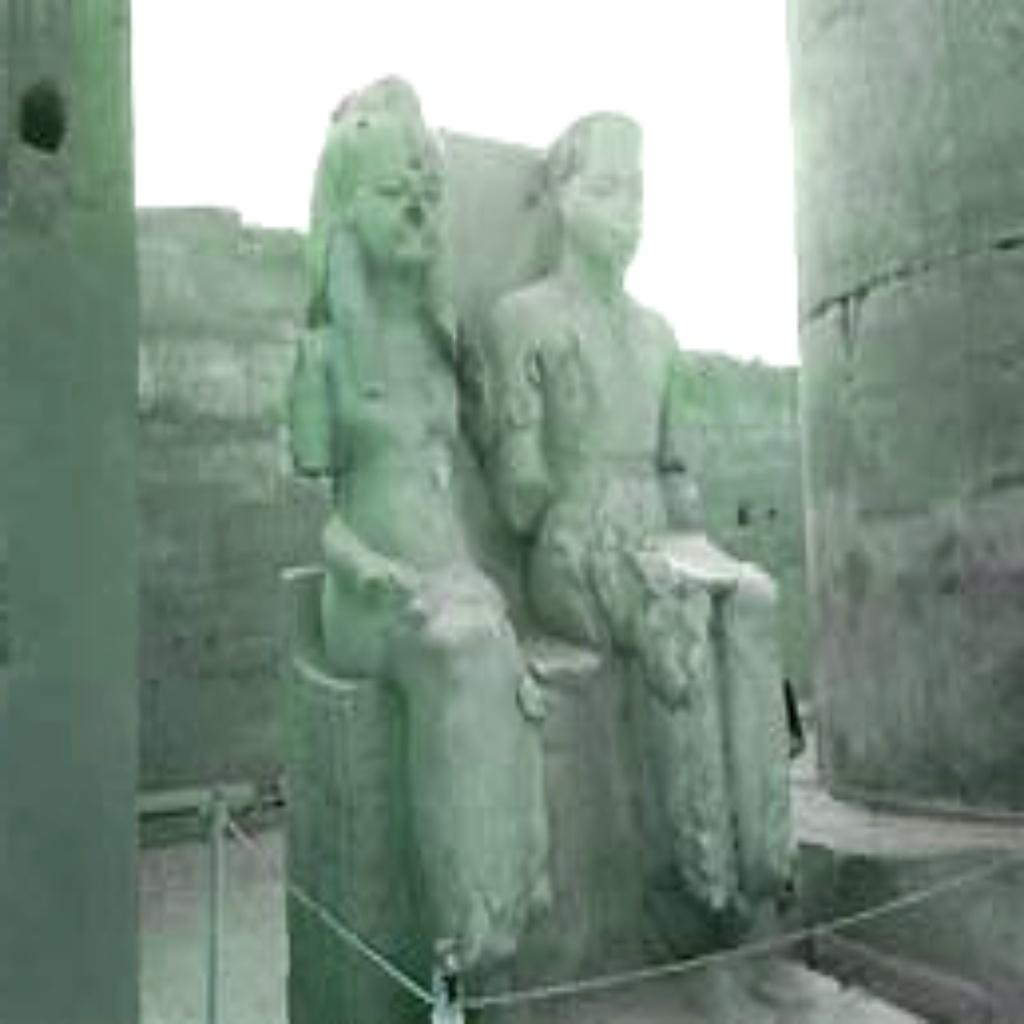Statue of Ankhesenamun: (285, 68, 551, 976)
Statue of Tutankhamun: (480, 101, 794, 913)
